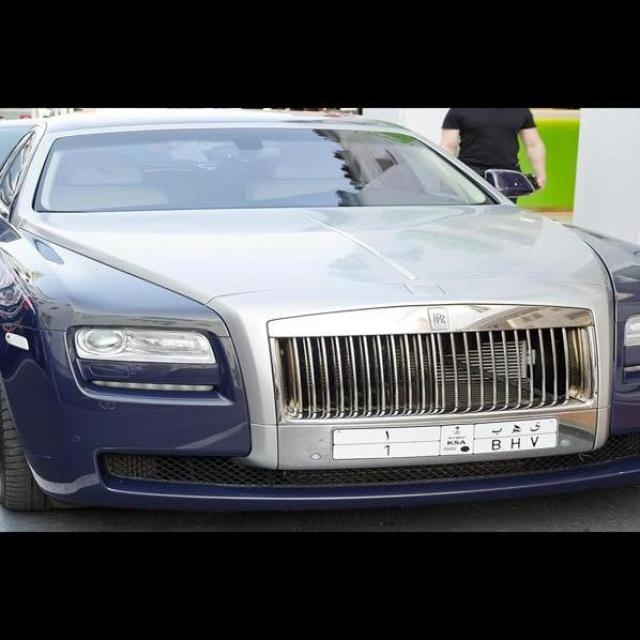license_plate: (331, 417, 562, 463)
